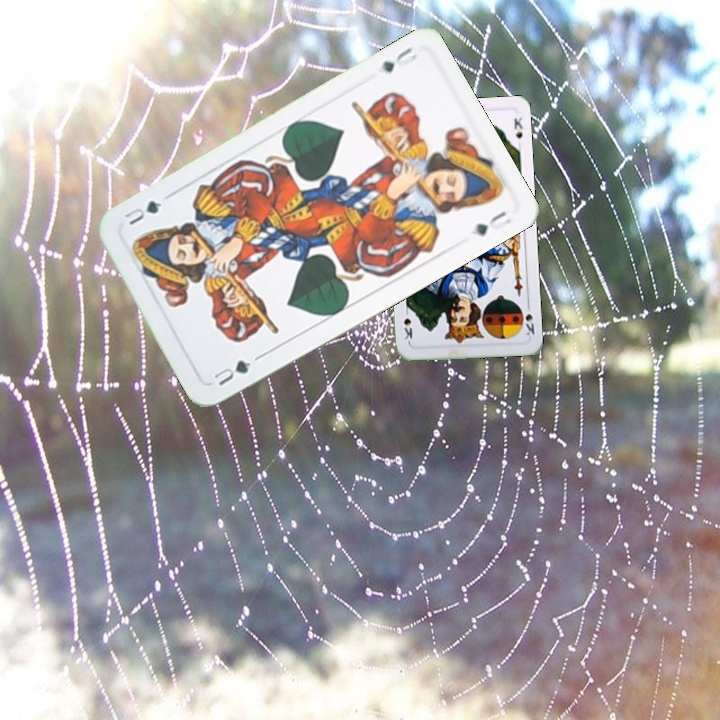GU: (209, 356, 254, 389), (376, 43, 420, 76)
SK: (517, 299, 537, 338)
